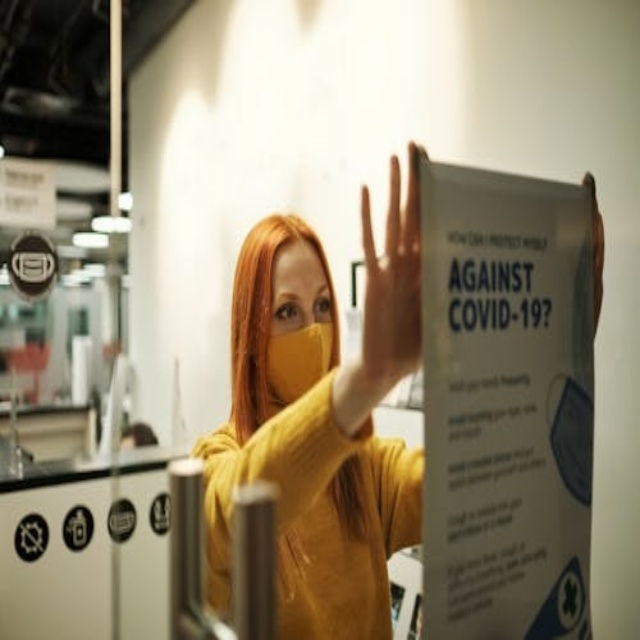Mascara: (264, 319, 334, 405)
Sin_gafas: (266, 277, 335, 319)
Sin_guantes: (349, 145, 425, 403)
